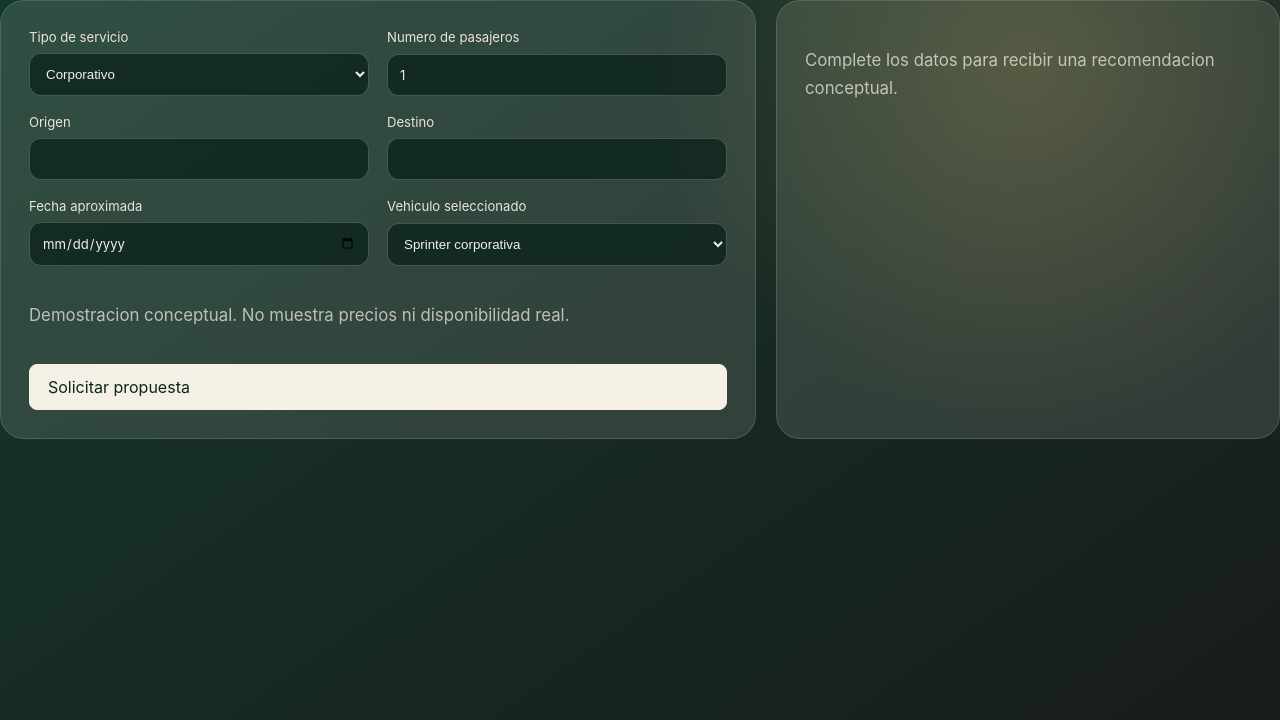
QuoteSection › shows accessible validation and preserves entered values
The image size is (1280, 720).
Type "Monteria" into the field labelled "Origen" at (199, 159), box 29,138 -> 369,180
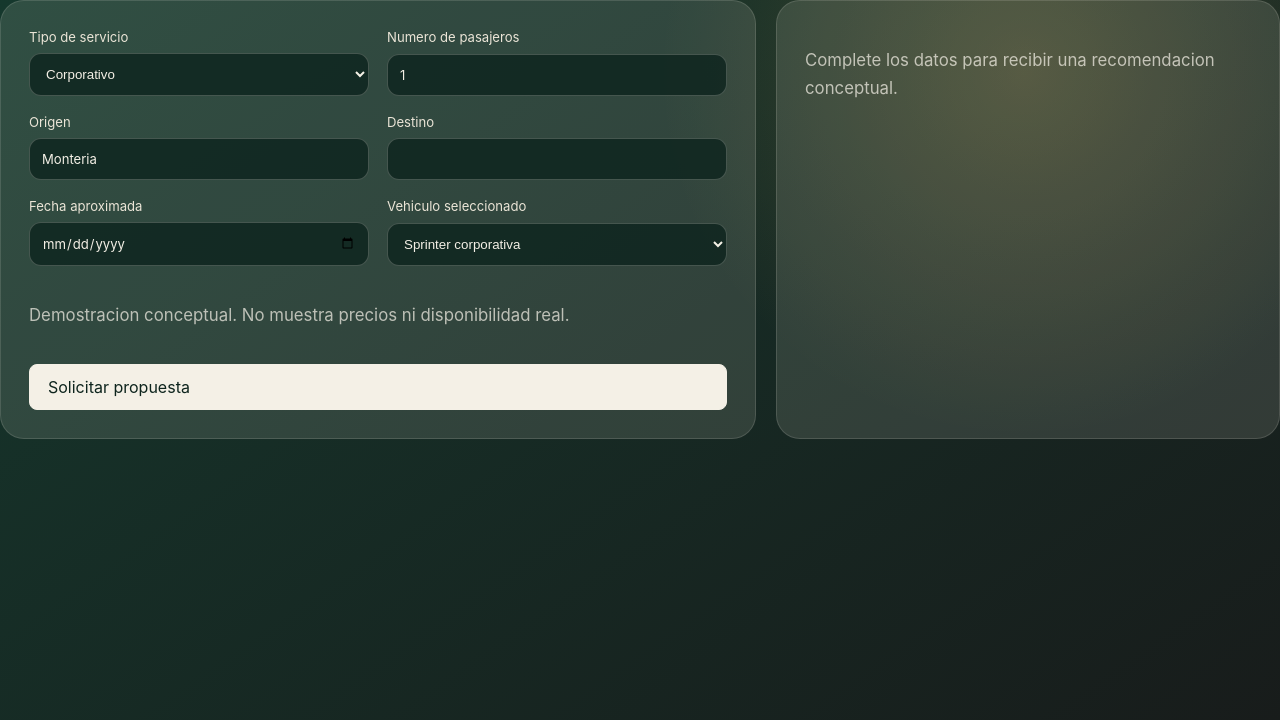
Click the button "Solicitar propuesta" at (119, 387), box 29,364 -> 727,410
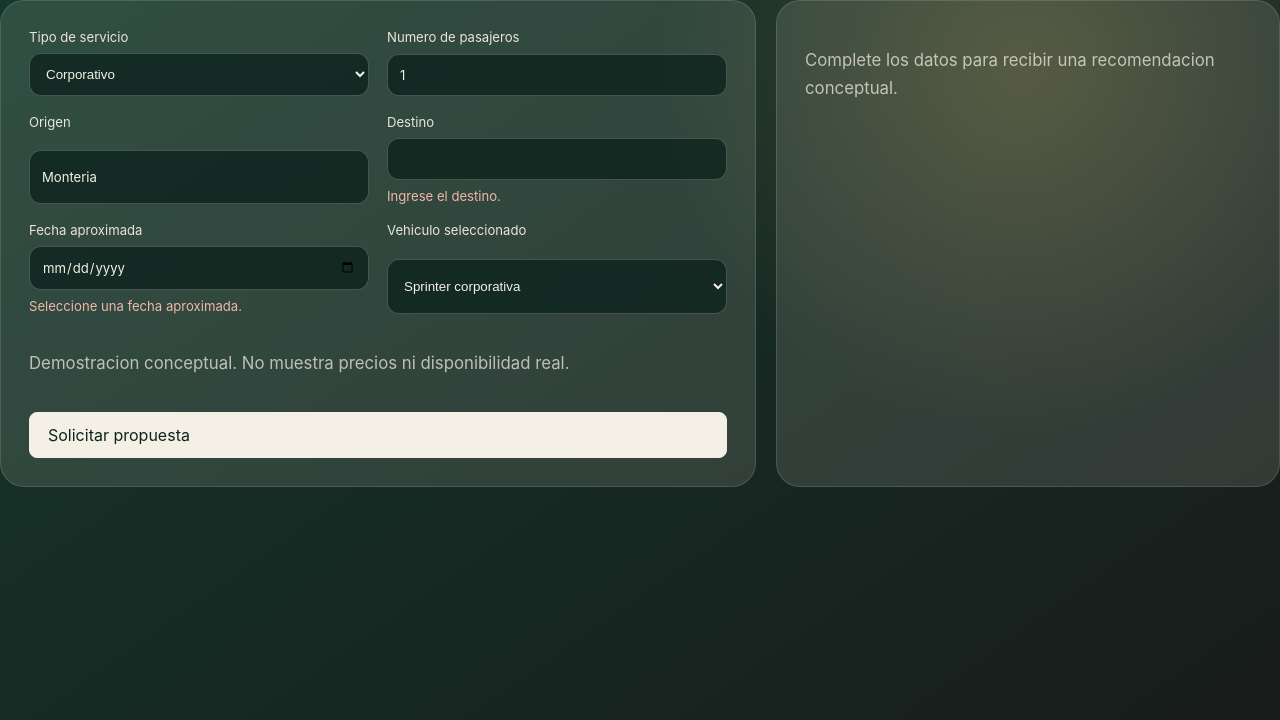
Expected: the text "Demostracion conceptual. No muestra precios ni disponibilidad real." is shown, 29,353 -> 570,373
Expected: the text "Ingrese el destino." is shown, 387,188 -> 501,204
